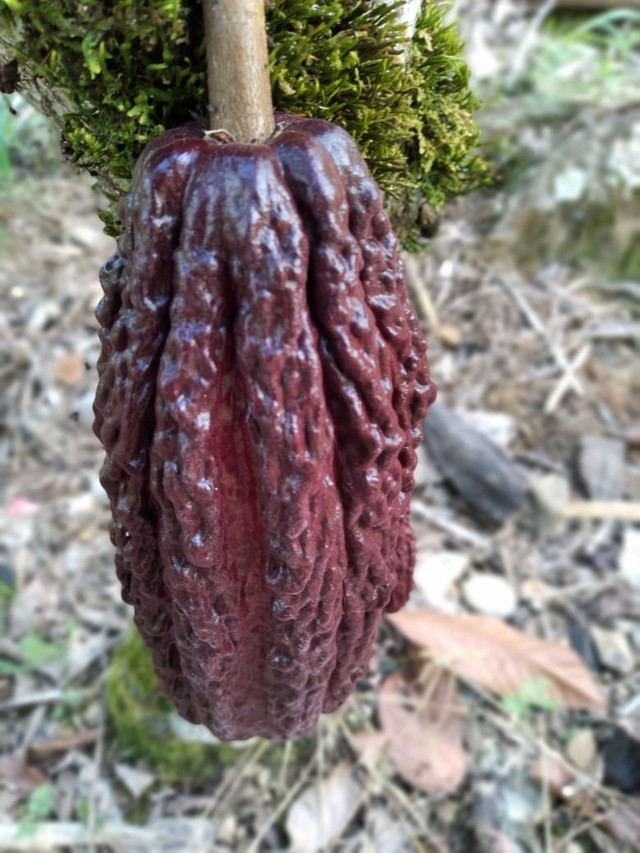Health: (84, 87, 448, 763)
